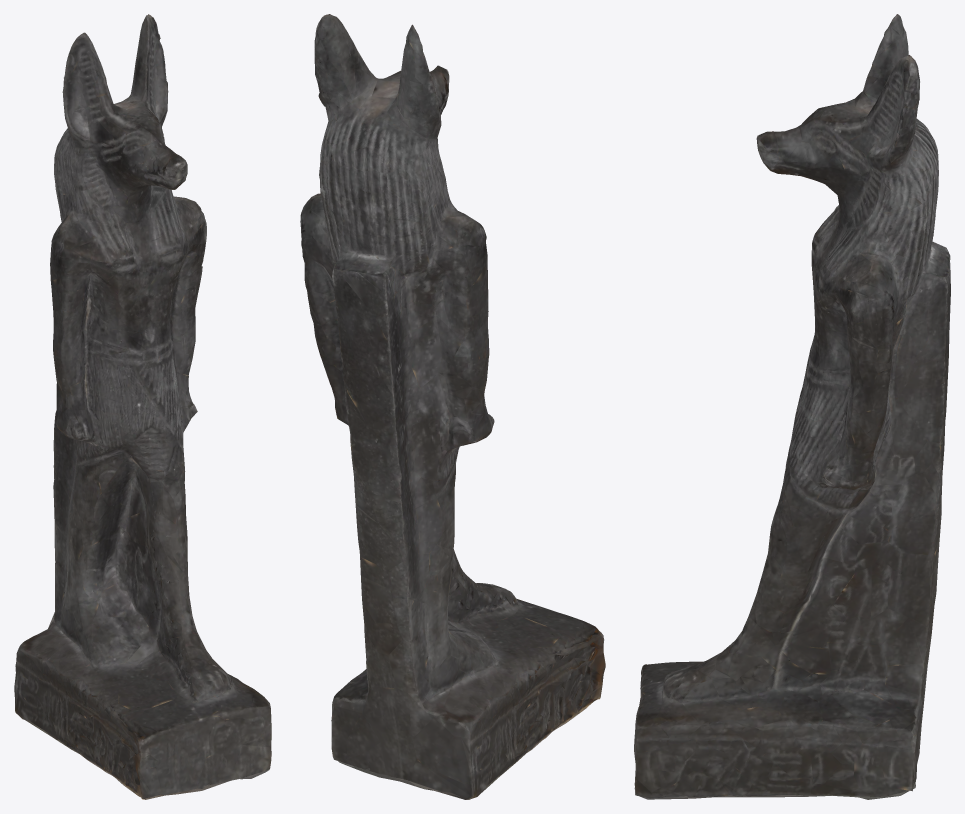
The model's file is anubis.glb.
3 views of the same model, side by side, from view 1: azimuth 30°, elevation 25°; view 2: azimuth 150°, elevation 25°; view 3: azimuth 270°, elevation 25° (orthographic). The views are drawn at different scales.
Visible parts, largest first — view 1: Object_2, Object_5; view 2: Object_2, Object_5; view 3: Object_2, Object_5.
Part boxes in pixels (bbox=[...]): Object_2: bbox=[14, 15, 271, 799]; Object_5: bbox=[25, 14, 269, 799]; Object_2: bbox=[300, 14, 605, 799]; Object_5: bbox=[324, 14, 592, 799]; Object_2: bbox=[634, 14, 950, 798]; Object_5: bbox=[634, 56, 915, 799].
Bounding box in the file's own units: 58.06 × 220 × 83.95.
Materials: 2 (2 with a texture image).
